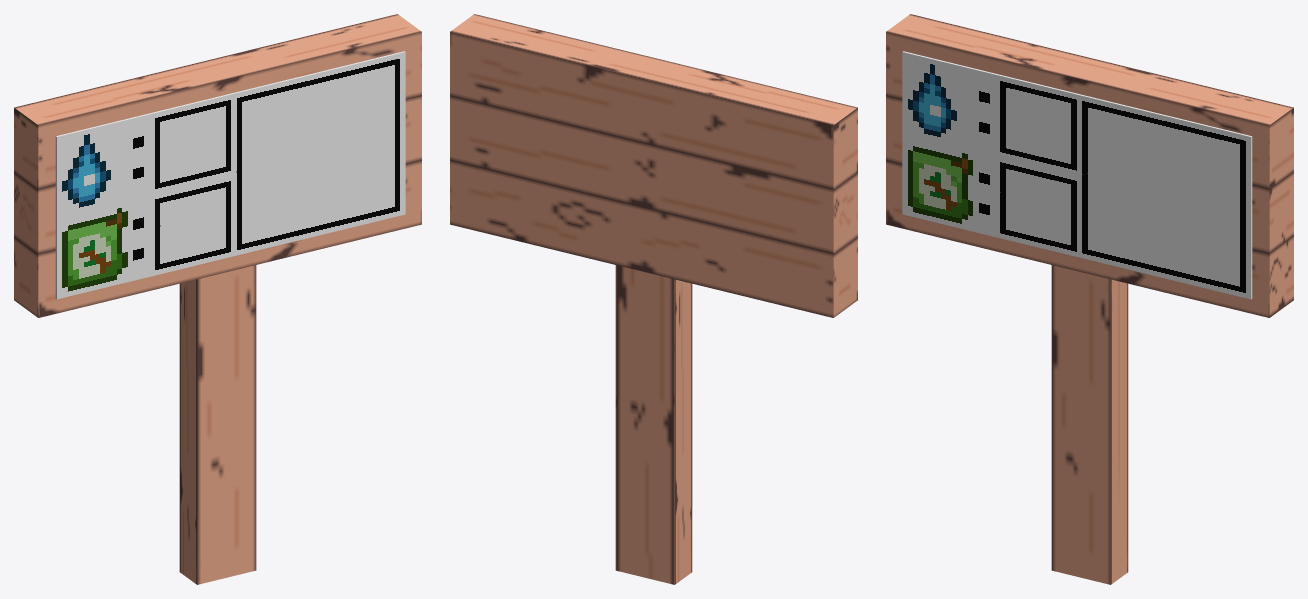
File: Cartel.fbx
The picture shows the model from 3 angles, left to right: view 1: azimuth 30°, elevation 25°; view 2: azimuth 150°, elevation 25°; view 3: azimuth 330°, elevation 25°; orthographic projection.
Parts seen in each view (by area): view 1: Letrero.001; view 2: Letrero.001; view 3: Letrero.001.
Part boxes in pixels (x1,y1,x2,y2): Letrero.001: (14,14,421,584); Letrero.001: (450,14,857,584); Letrero.001: (886,14,1293,584).
Size of the model in its own units: 650 by 74.46 by 812.
Materials: 2 (2 with a texture image).
